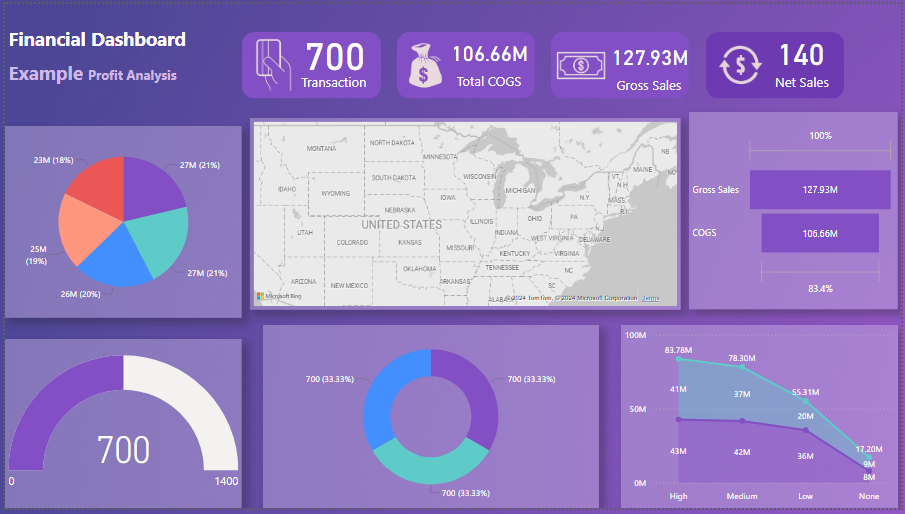

What the dashboard file says about the page in this screenshot:
{"tool":"powerbi","page":{"name":"Page 1","canvas":[1280,720],"ordinal":0},"visuals":[{"type":"shape","box":[338.4,40.3,198.7,95],"z":0},{"type":"shape","box":[560.2,40.3,197.3,95],"z":1000},{"type":"shape","box":[780.5,40.3,197.3,95],"z":2000},{"type":"shape","box":[1000.8,40.3,197.3,95],"z":3000},{"type":"image","box":[560.2,49,80.6,77.8],"z":4000},{"type":"image","box":[1010.9,49,79.2,77.8],"z":5000},{"type":"image","box":[338.4,43.2,89.3,89.3],"z":6000},{"type":"image","box":[780.5,25.9,86.4,123.8],"z":7000},{"type":"card","fields":{"Values":["All Measures.# Transaction"]},"box":[362.9,0,216,136.8],"z":8000},{"type":"textbox","box":[398.9,92.2,142.6,40.3],"z":9000},{"type":"card","fields":{"Values":["All Measures.COGS"]},"box":[584.6,-0.1,216,136.8],"z":10000},{"type":"textbox","box":[620.6,92.1,142.6,40.3],"z":11000},{"type":"card","fields":{"Values":["All Measures.Gross Sales"]},"box":[830.9,0,180,149.8],"z":12000},{"type":"textbox","box":[848.2,96.5,142.6,40.3],"z":13000},{"type":"card","fields":{"Values":["All Measures.Canada Trans"]},"box":[1028,-0.2,216,136.8],"z":14000},{"type":"textbox","box":[1069.9,92.2,136.8,40.3],"z":15000},{"type":"textbox","box":[0,25.9,316.8,61.9],"z":16000},{"type":"textbox","box":[0,74.9,326.9,57.6],"z":17000},{"type":"pieChart","fields":{"Category":["financials.Country"],"Y":["All Measures.Gross Sales"]},"box":[0,174.2,338.4,273.6],"z":18000},{"type":"donutChart","fields":{"Y":["financials.Date","financials.Manufacturing Price","financials.Product"]},"box":[368.6,457.9,479.5,262.1],"z":19000},{"type":"gauge","fields":{"Y":["financials.Country"]},"box":[0,478.1,338.4,241.9],"z":20000},{"type":"filledMap","box":[349.9,162.7,614.9,273.6],"z":20001},{"type":"funnel","fields":{"Y":["All Measures.Gross Sales","All Measures.COGS"]},"box":[977.8,154.1,298.1,282.2],"z":20002},{"type":"stackedAreaChart","fields":{"Y":["All Measures.Gross Sales","All Measures.COGS"],"Category":["financials.Discount Band"]},"box":[879.8,457.9,396,262.1],"z":20003}]}

Visuals, with their boxes in screenshot pixels (x1, y1, x2, y2), scaled from the page's 1280x720 canvas onto the 905x514 screenshot:
shape: left=239, top=29, right=380, bottom=97
shape: left=396, top=29, right=536, bottom=97
shape: left=552, top=29, right=691, bottom=97
shape: left=708, top=29, right=847, bottom=97
image: left=396, top=35, right=453, bottom=91
image: left=715, top=35, right=771, bottom=91
image: left=239, top=31, right=302, bottom=95
image: left=552, top=18, right=613, bottom=107
card - All Measures.# Transaction: left=257, top=0, right=409, bottom=98
textbox: left=282, top=66, right=383, bottom=95
card - All Measures.COGS: left=413, top=0, right=566, bottom=98
textbox: left=439, top=66, right=540, bottom=95
card - All Measures.Gross Sales: left=587, top=0, right=715, bottom=107
textbox: left=600, top=69, right=701, bottom=98
card - All Measures.Canada Trans: left=727, top=0, right=880, bottom=98
textbox: left=756, top=66, right=853, bottom=95
textbox: left=0, top=18, right=224, bottom=63
textbox: left=0, top=53, right=231, bottom=95
pieChart - financials.Country x All Measures.Gross Sales: left=0, top=124, right=239, bottom=320
donutChart - financials.Date x financials.Manufacturing Price: left=261, top=327, right=600, bottom=513
gauge - financials.Country: left=0, top=341, right=239, bottom=513
filledMap: left=247, top=116, right=682, bottom=311
funnel - All Measures.Gross Sales x All Measures.COGS: left=691, top=110, right=902, bottom=311
stackedAreaChart - All Measures.Gross Sales x All Measures.COGS: left=622, top=327, right=902, bottom=513
